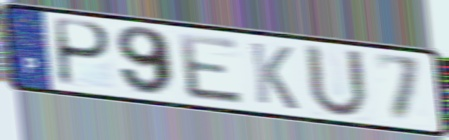7: (372, 50, 424, 125)
9: (115, 24, 179, 100)
E: (175, 31, 247, 107)
K: (247, 39, 301, 113)
P: (55, 16, 115, 90)
U: (302, 41, 372, 121)
